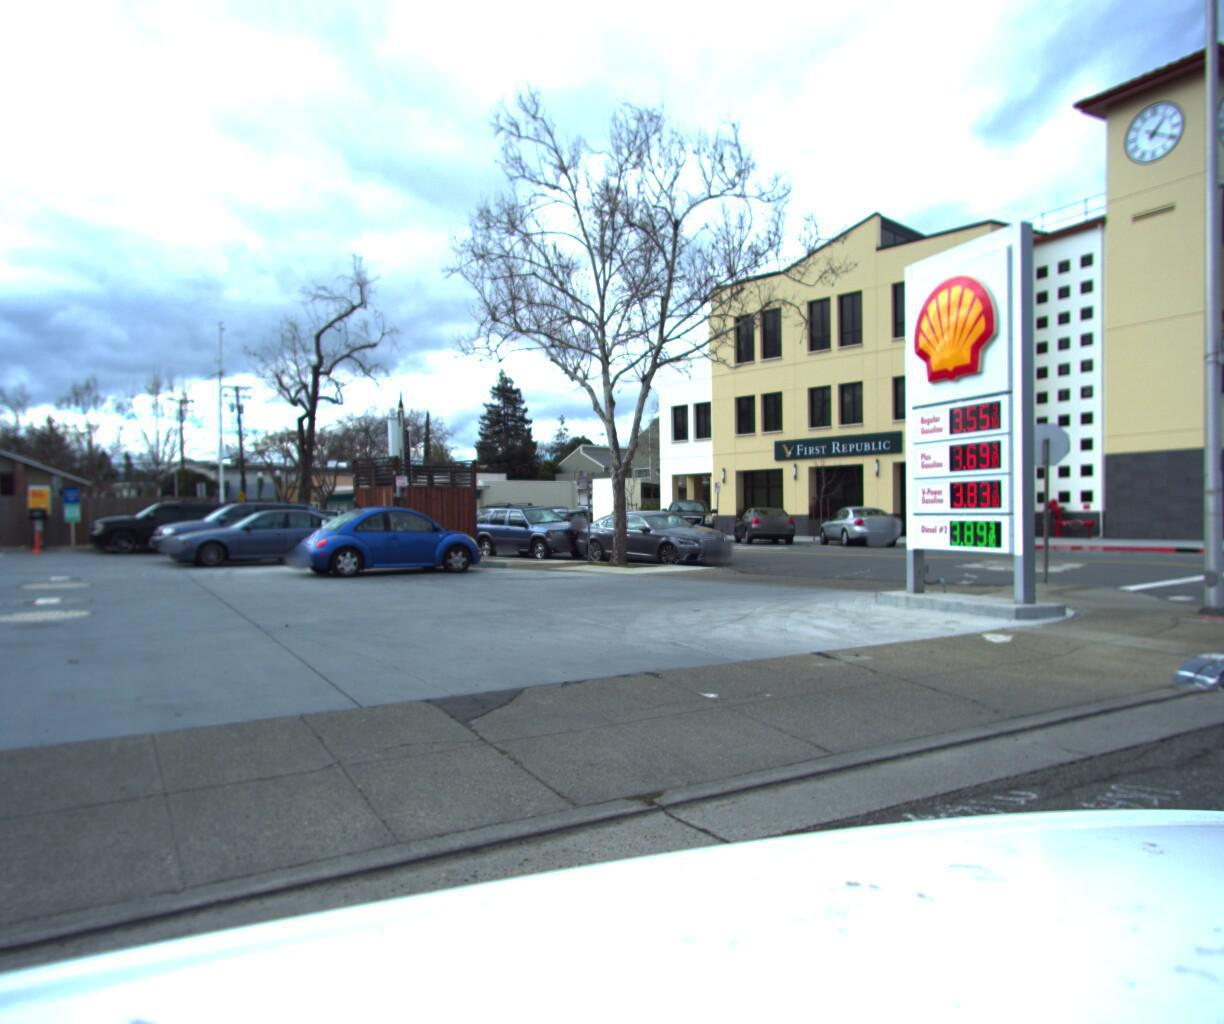car: (283, 493, 502, 575), (157, 498, 370, 564), (139, 489, 336, 560), (568, 500, 753, 565), (88, 491, 278, 550), (467, 490, 608, 556), (817, 497, 915, 543), (733, 496, 806, 539), (667, 489, 721, 538), (314, 498, 361, 528)
